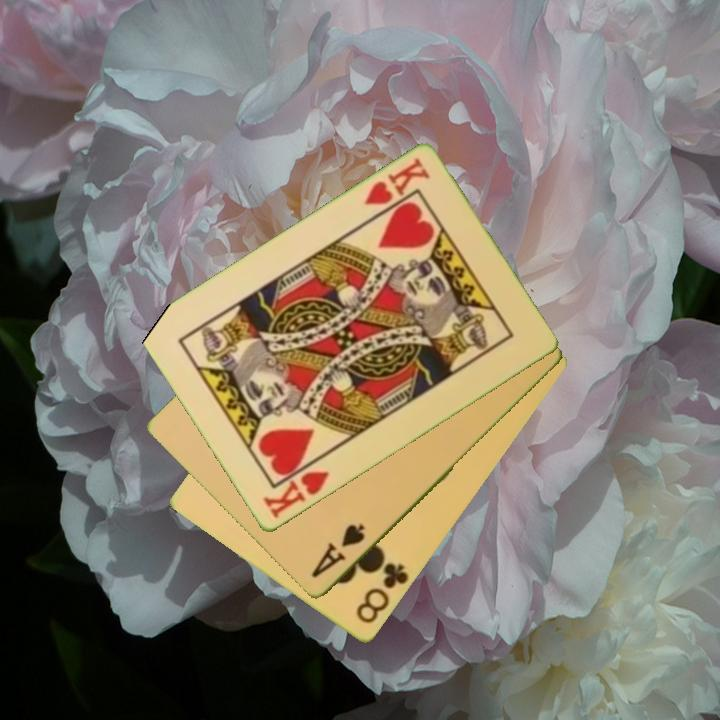8c: (352, 559, 412, 627)
As: (307, 520, 368, 582)
Kh: (259, 455, 332, 522), (360, 154, 433, 209)
